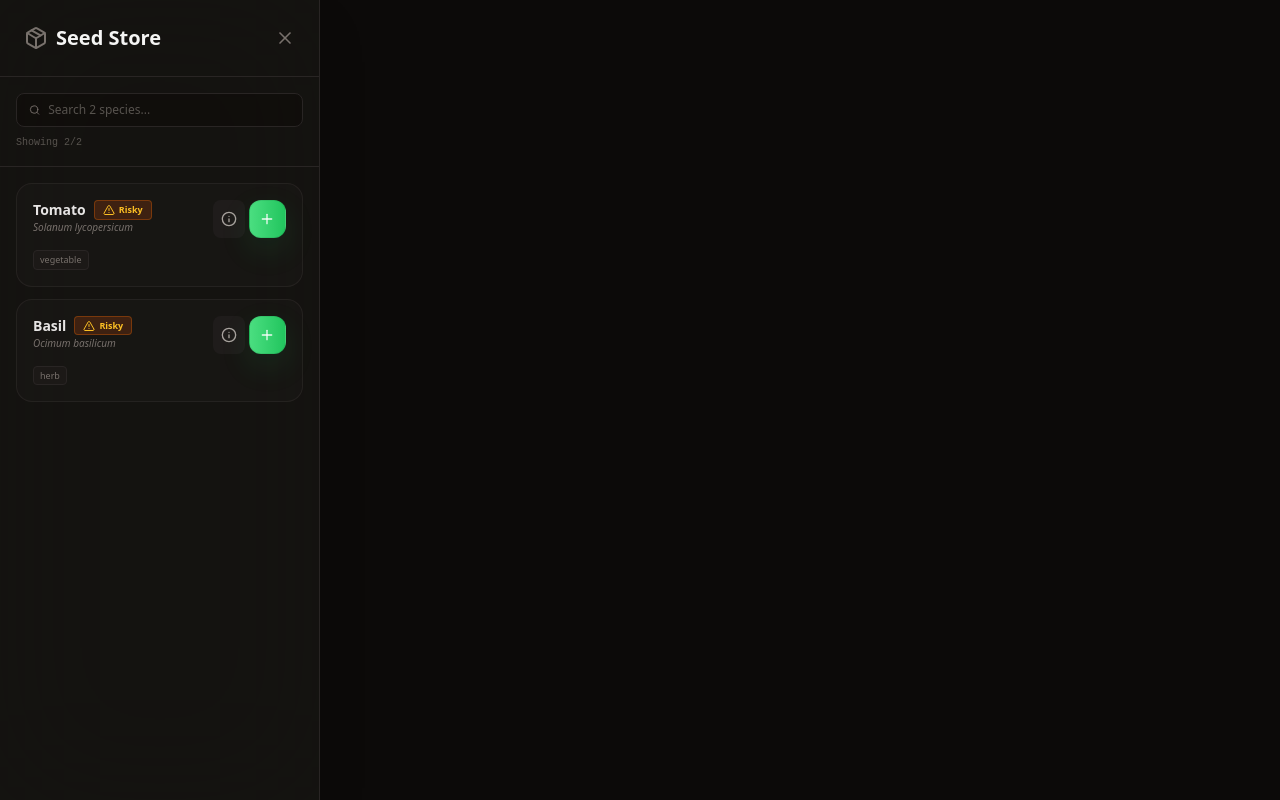
Test: SeedStore › should open detail modal when info button is clicked
What coordinates should you click on to do the following:
click the button titled "View Details" in the row of "Solanum lycopersicum"
I would click on:
 (229, 219)
Its box is [213,200,245,238].
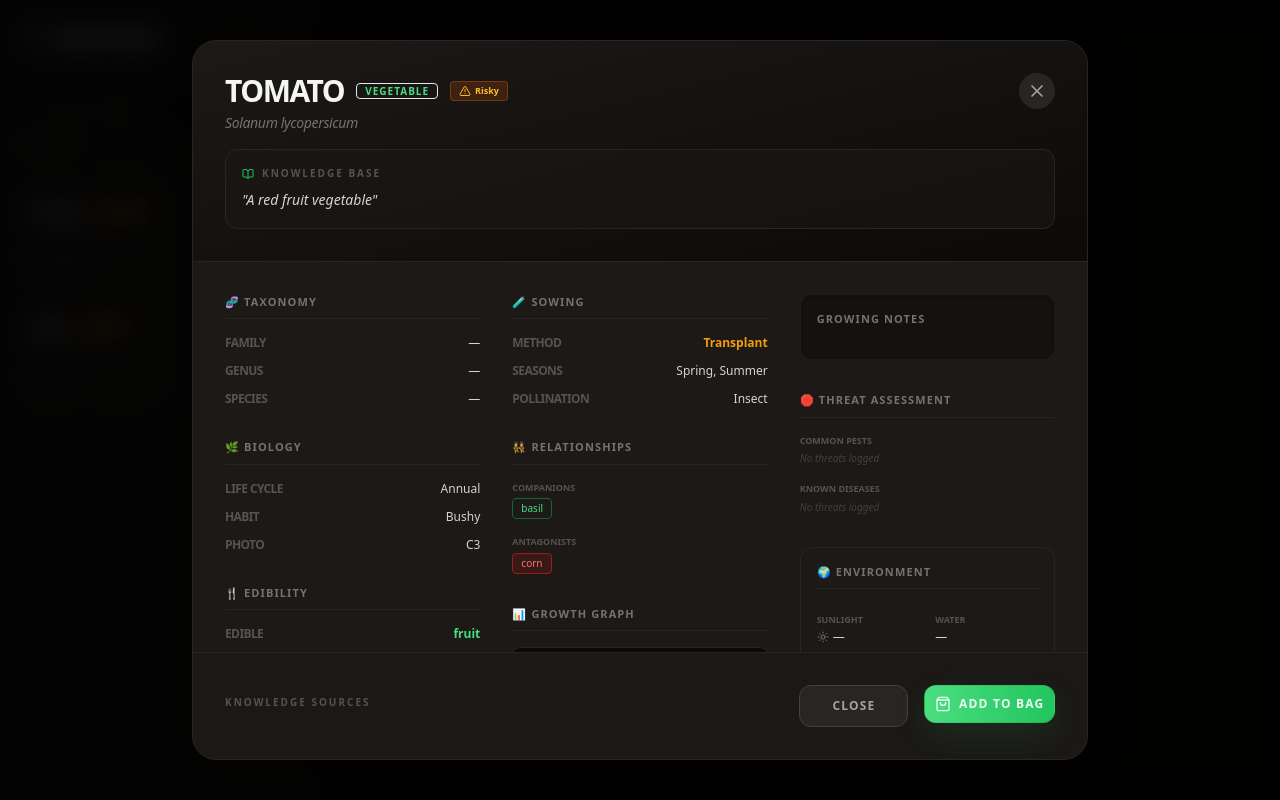
Check: the heading "Knowledge Base" is shown, box [242,166,381,180]
